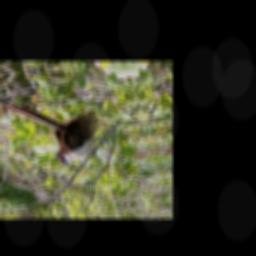Cuckoo: (4, 108, 119, 175)
